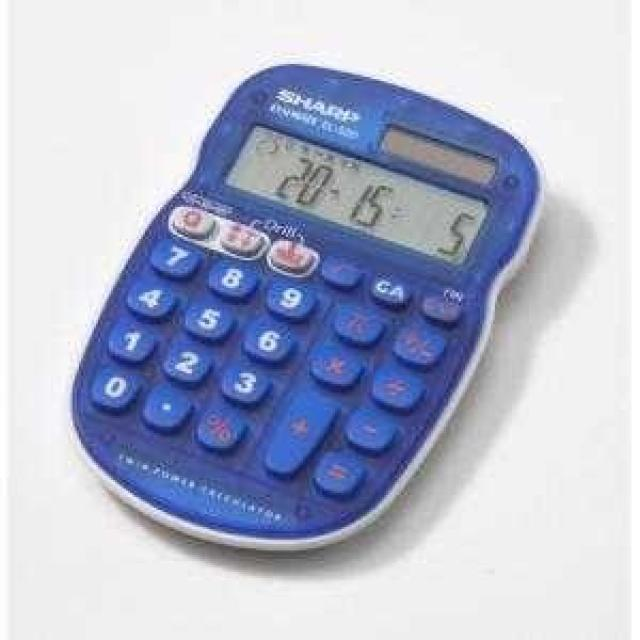Calculator: (70, 58, 540, 548)
